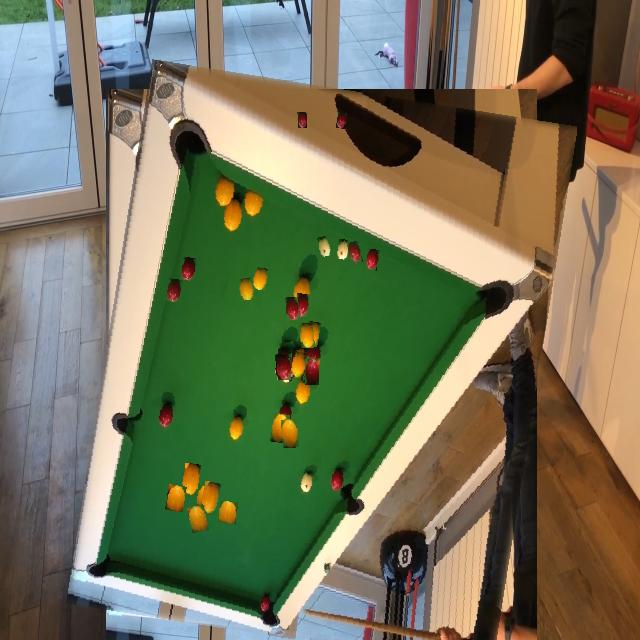Ball: (200, 482, 220, 514), (188, 505, 209, 533), (282, 419, 298, 448), (290, 352, 306, 378), (219, 502, 237, 524), (276, 354, 291, 380), (239, 277, 255, 301), (305, 358, 319, 385), (167, 279, 183, 302), (300, 323, 314, 348), (348, 242, 362, 264), (286, 297, 299, 320), (280, 342, 297, 358), (318, 237, 331, 257), (298, 112, 307, 128)
Billiard table: (86, 74, 556, 640)
